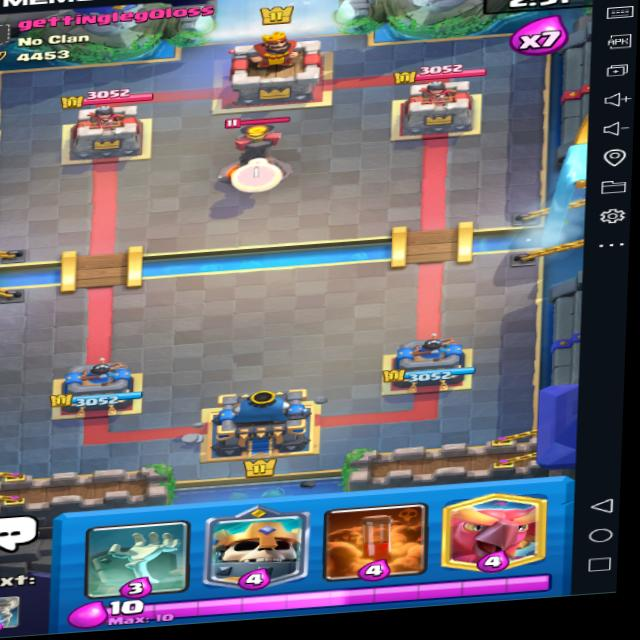inferno-tower: (211, 111, 299, 189)
